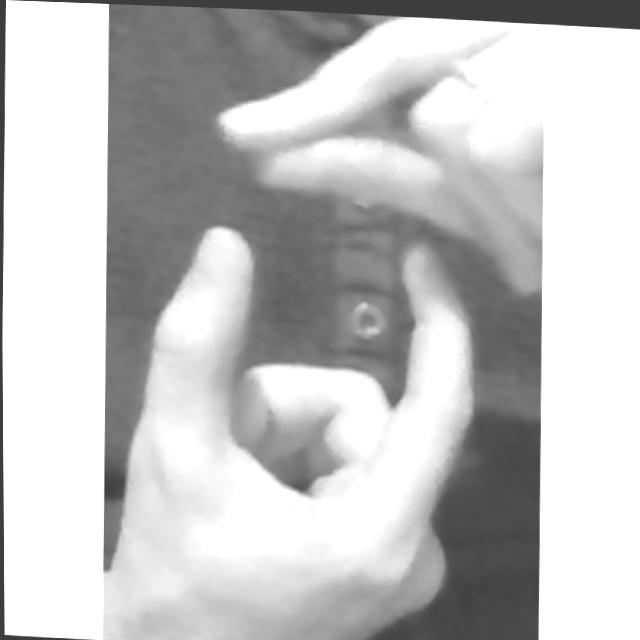U--: (99, 10, 551, 640)
